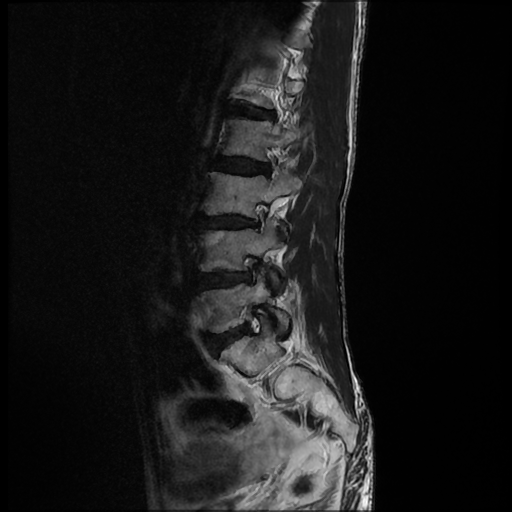RFS1: (239, 195, 281, 240)
RFS3: (228, 240, 273, 295)
